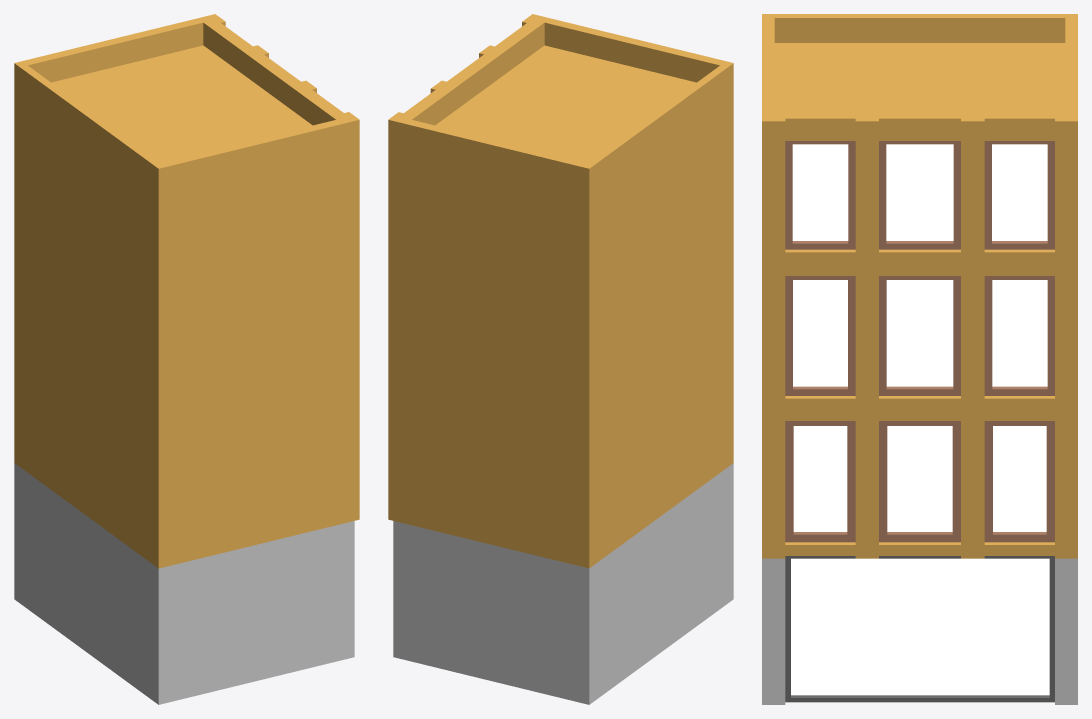
File: House 2.3.fbx
The picture shows the model from 3 angles, left to right: view 1: azimuth 30°, elevation 25°; view 2: azimuth 150°, elevation 25°; view 3: azimuth 270°, elevation 25°; orthographic projection. The views are drawn at different scales.
Visible parts, largest first — view 1: House 2.003; view 2: House 2.003; view 3: House 2.003.
Part boxes in pixels (x1,y1,x2,y2): House 2.003: (14, 14, 359, 704); House 2.003: (388, 14, 733, 704); House 2.003: (762, 14, 1077, 704).
Bounding box in the file's own units: 804 × 2049 × 1001.
